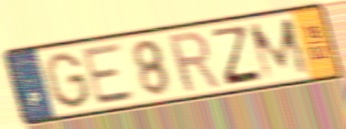8: (132, 37, 174, 99)
E: (80, 40, 139, 108)
G: (42, 50, 94, 111)
M: (246, 15, 313, 83)
R: (164, 28, 224, 96)
Z: (209, 24, 265, 88)
